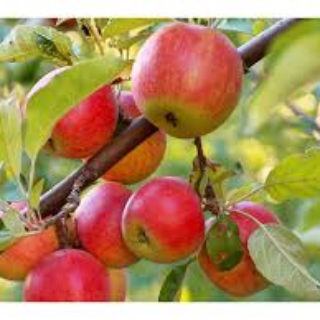tao: (130, 22, 247, 144), (120, 173, 208, 269)
